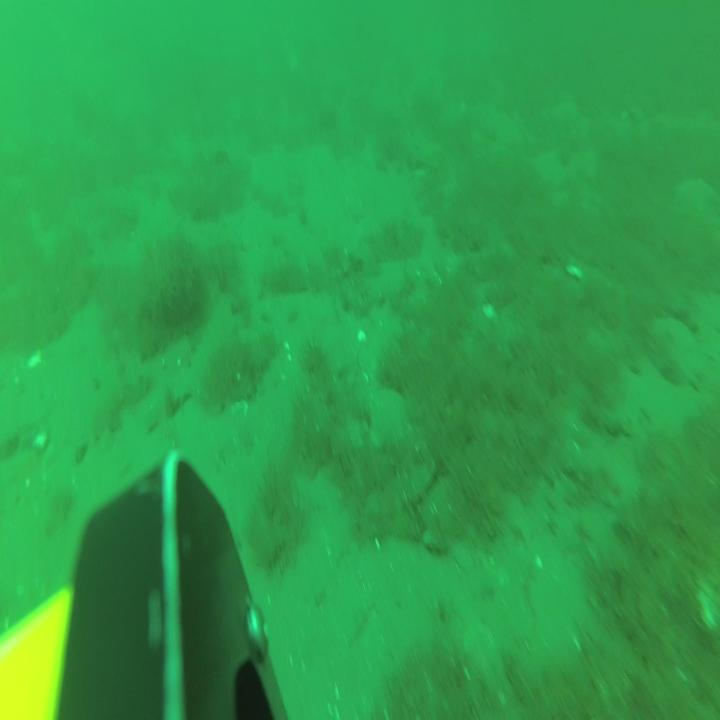scallop: (165, 334, 191, 373), (230, 400, 248, 426)
